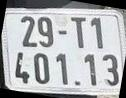-: (59, 31, 66, 35)
.: (75, 81, 80, 85)
0: (34, 53, 49, 84)
1: (91, 17, 103, 49), (56, 53, 68, 84), (85, 54, 96, 85)
2: (21, 16, 36, 47)
3: (103, 54, 119, 86)
4: (16, 52, 29, 83)
9: (38, 17, 53, 46)
T: (71, 17, 86, 48)
